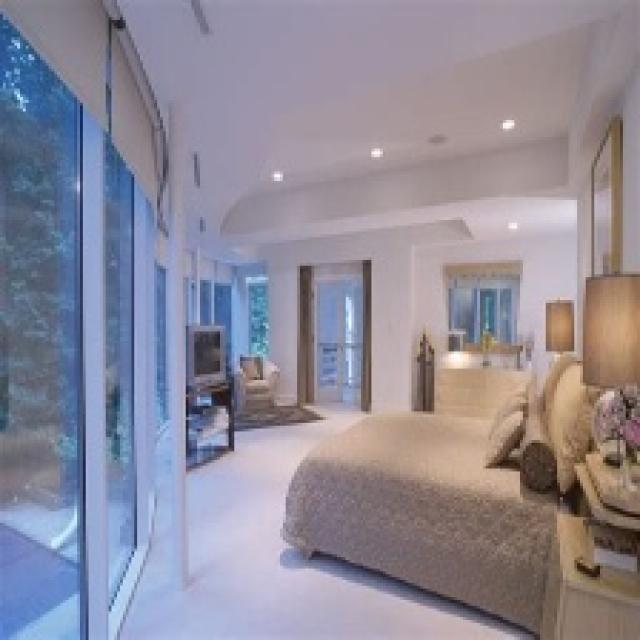Bed: (280, 352, 606, 637)
